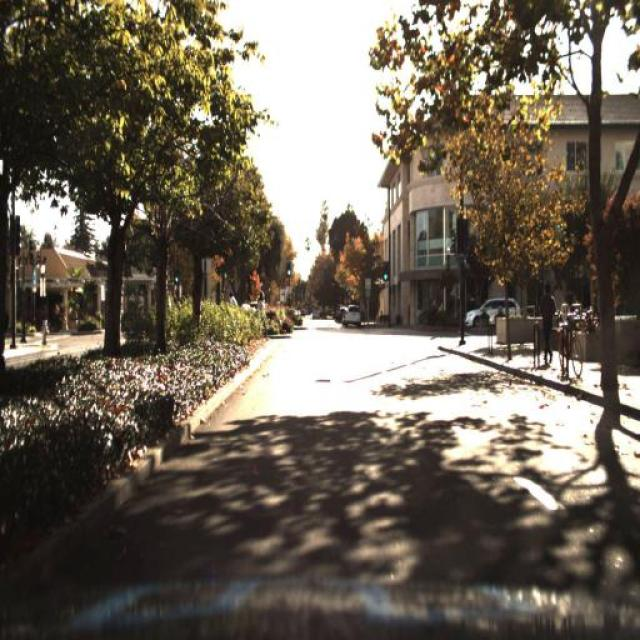car: (460, 294, 522, 330), (462, 299, 523, 329), (342, 298, 364, 338), (344, 306, 362, 329)
trafficLight: (538, 279, 556, 363), (538, 275, 554, 361), (255, 292, 269, 344), (260, 292, 272, 342), (218, 287, 240, 311)
trafficLight-GreenLeft: (170, 268, 182, 294), (380, 257, 390, 285), (381, 257, 393, 279), (282, 260, 294, 281)
trafficLight-Red: (282, 255, 292, 280)
